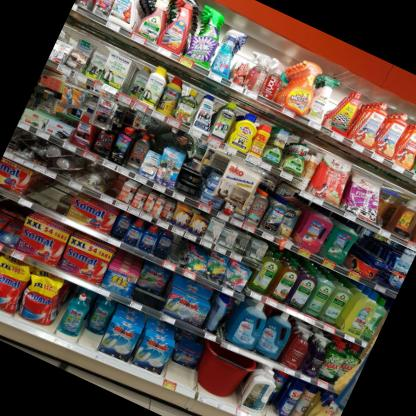empty_space: (21, 169, 76, 217), (164, 234, 193, 269)
